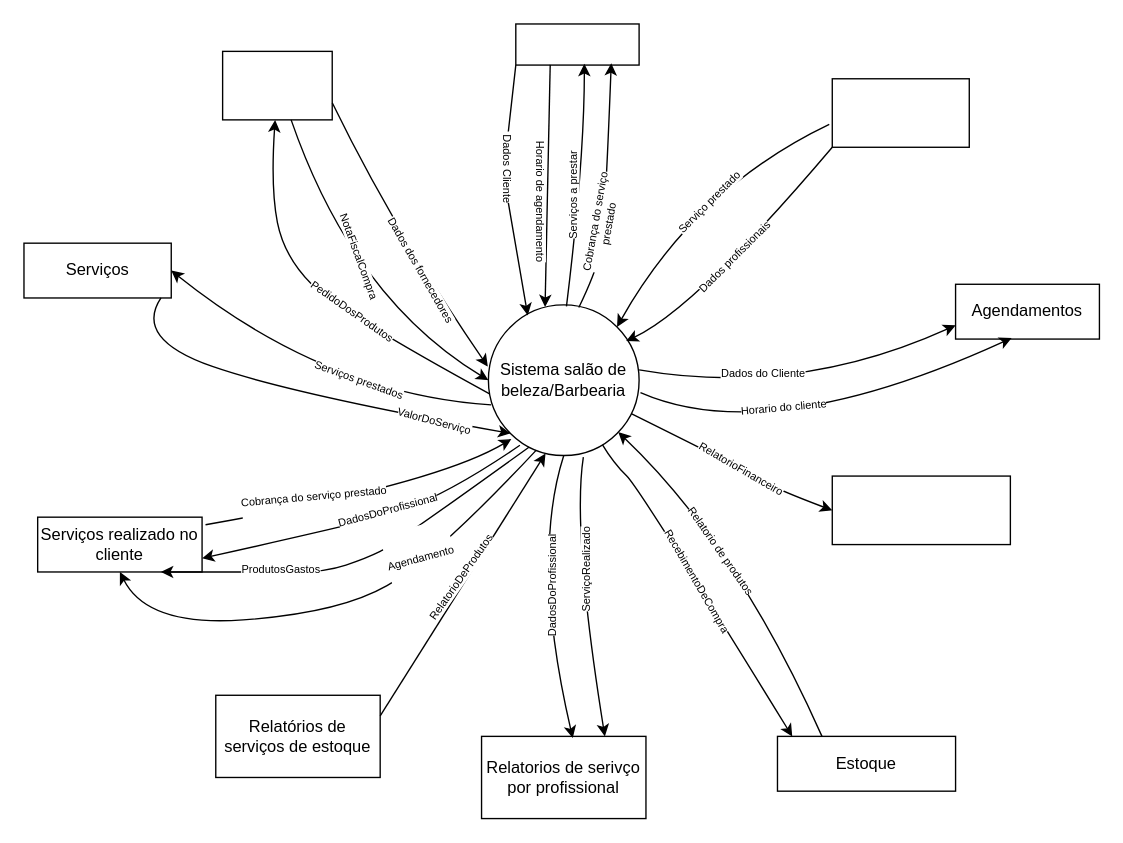
This 1123x843 diagram has some shape labels left out. The shapes that lost their labels are listed below. From the top down, each one's box as (x1, y1, x2, y2) in pixels, then its label:
(514, 23, 639, 65): Cliente
(221, 50, 332, 120): Fornecedores
(831, 77, 969, 147): Profissionais
(831, 475, 1010, 545): Contabilidade
